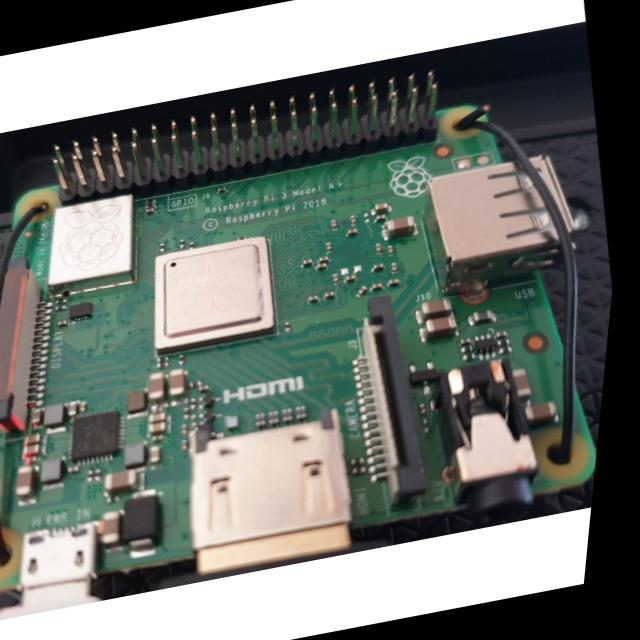Raspberry-Pi-3-A-: (1, 71, 596, 605)
